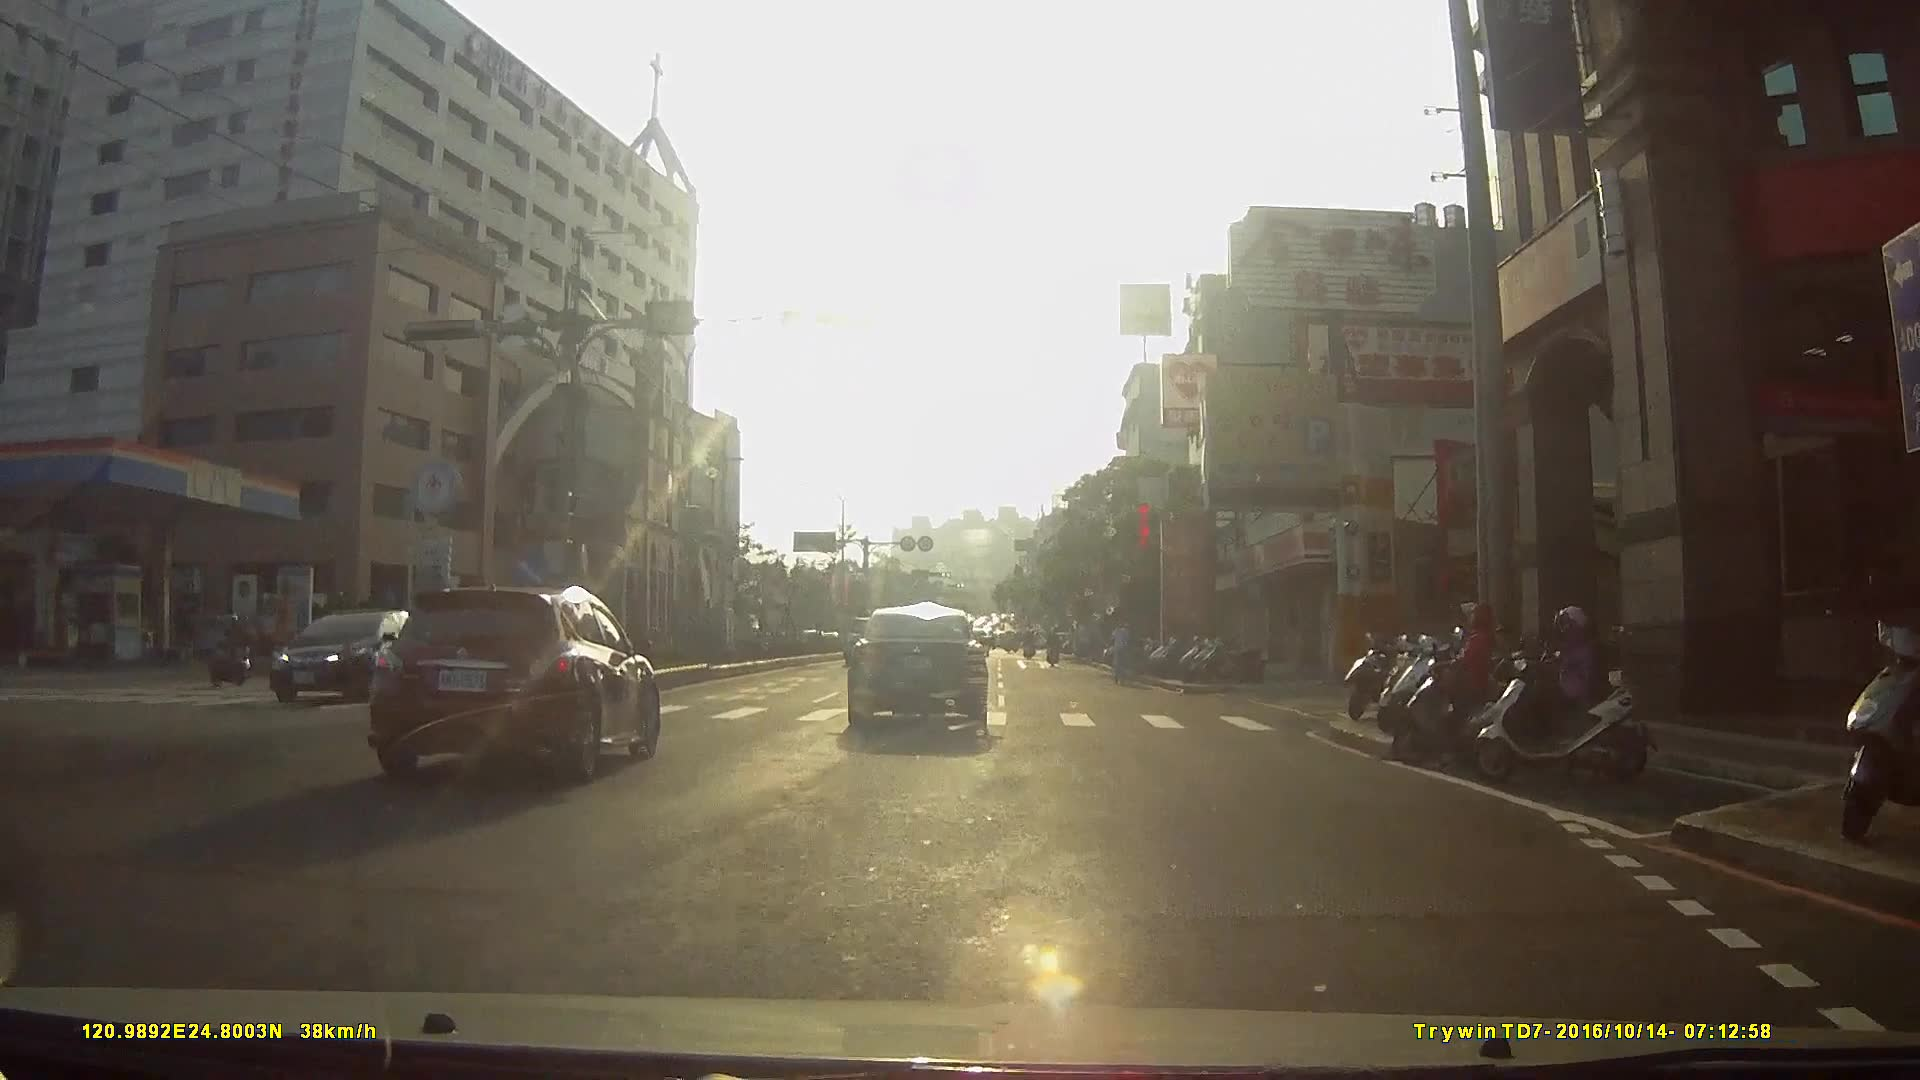rider: (1465, 604, 1661, 792), (1387, 602, 1552, 777), (209, 610, 255, 688), (1108, 619, 1135, 686)
vehicle: (369, 578, 668, 797), (257, 605, 460, 715), (852, 611, 1003, 745), (763, 607, 822, 662)
